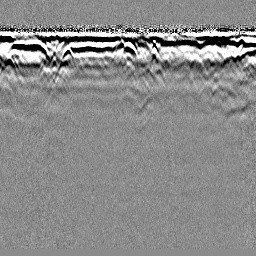cavity: (117, 40, 140, 66)
